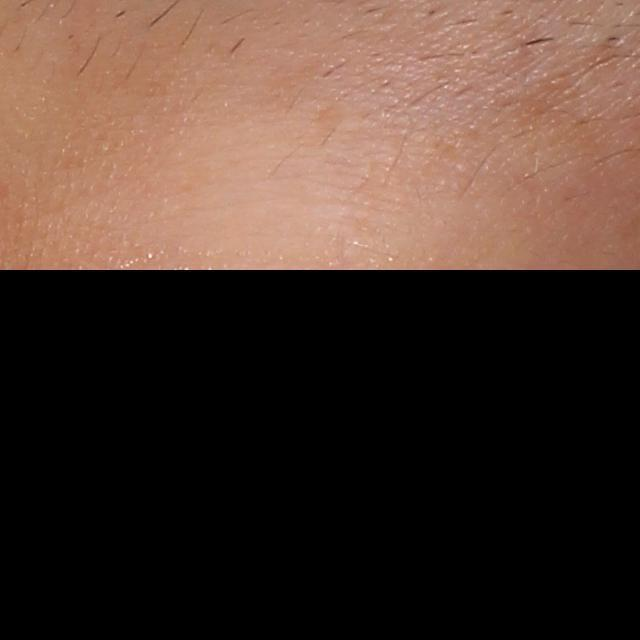melasma: (486, 64, 625, 160), (305, 101, 346, 158)
